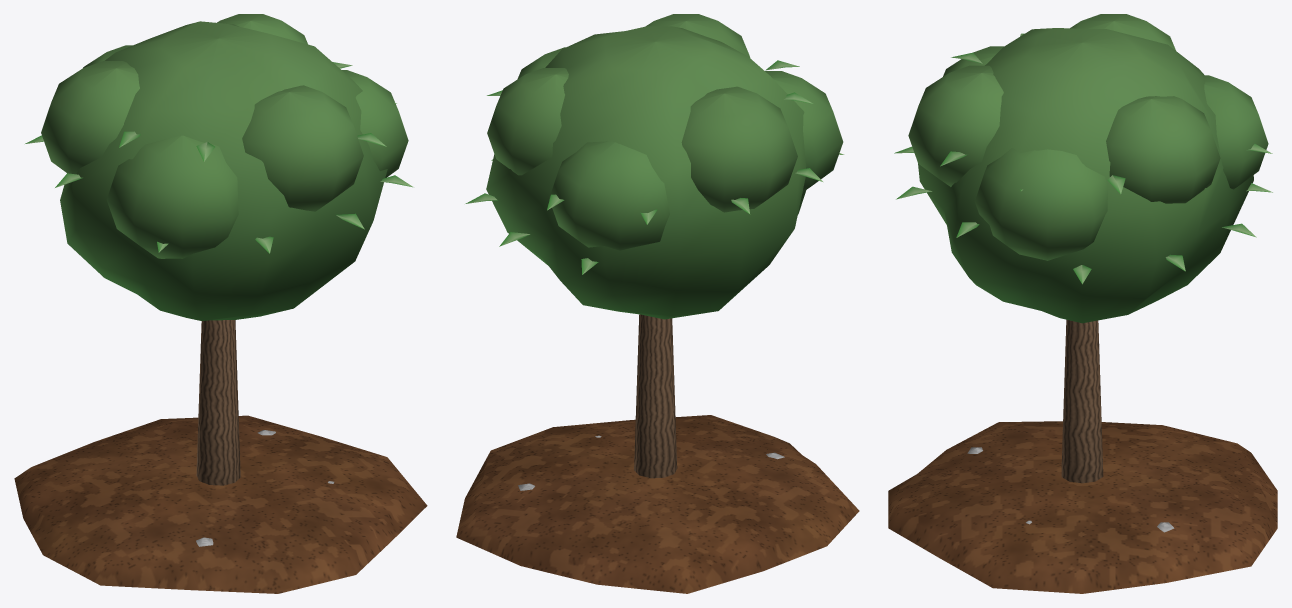
Rendered from plant-mango-1.glb.
The picture shows the model from 3 angles, left to right: view 1: azimuth 30°, elevation 25°; view 2: azimuth 150°, elevation 25°; view 3: azimuth 270°, elevation 25°; orthographic projection. The views are drawn at different scales.
Parts seen in each view (by area): view 1: plant-mango-1; view 2: plant-mango-1; view 3: plant-mango-1.
Boxes of the visible parts, x1=… form: plant-mango-1: x1=14, y1=14, x2=427, y2=593; plant-mango-1: x1=456, y1=14, x2=859, y2=593; plant-mango-1: x1=888, y1=14, x2=1277, y2=593.
Bounding box in the file's own units: 1 × 1.29 × 0.9749.
5 materials, 3 textured.
